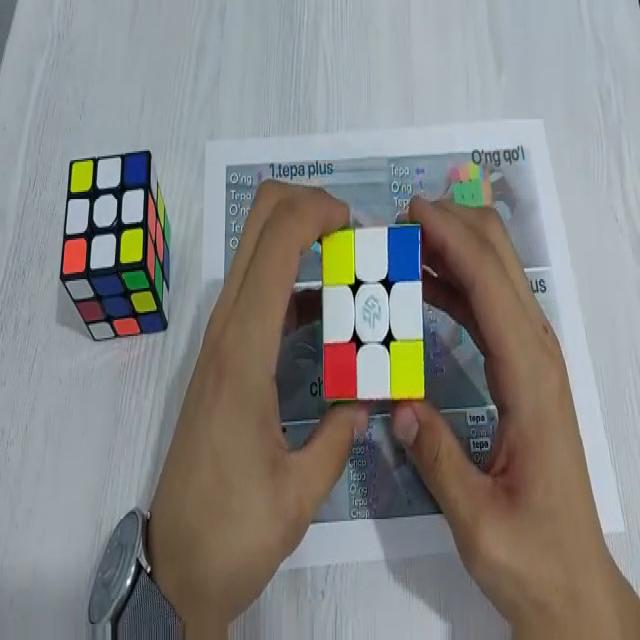Rub: (60, 148, 171, 342), (319, 223, 426, 406)
